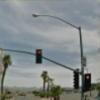traffic lights: (37, 50, 42, 63)
